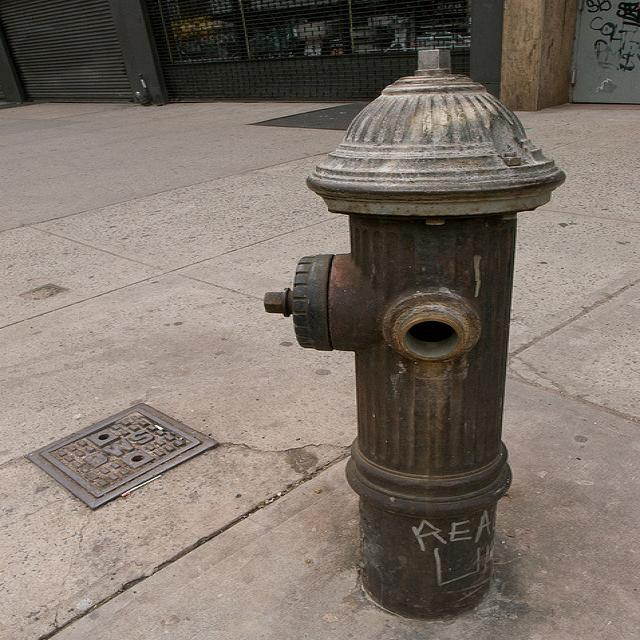fire_hydrant: (260, 48, 570, 624)
